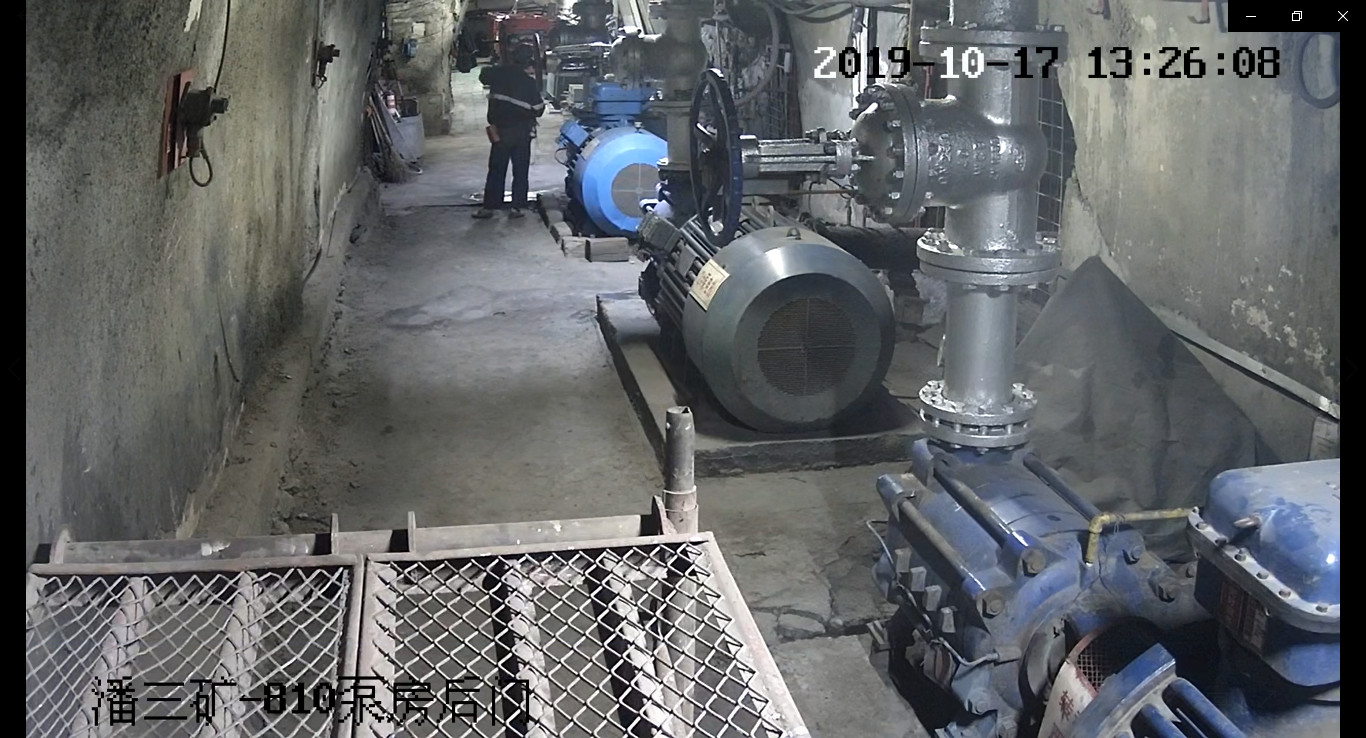helmet: (510, 41, 534, 54)
